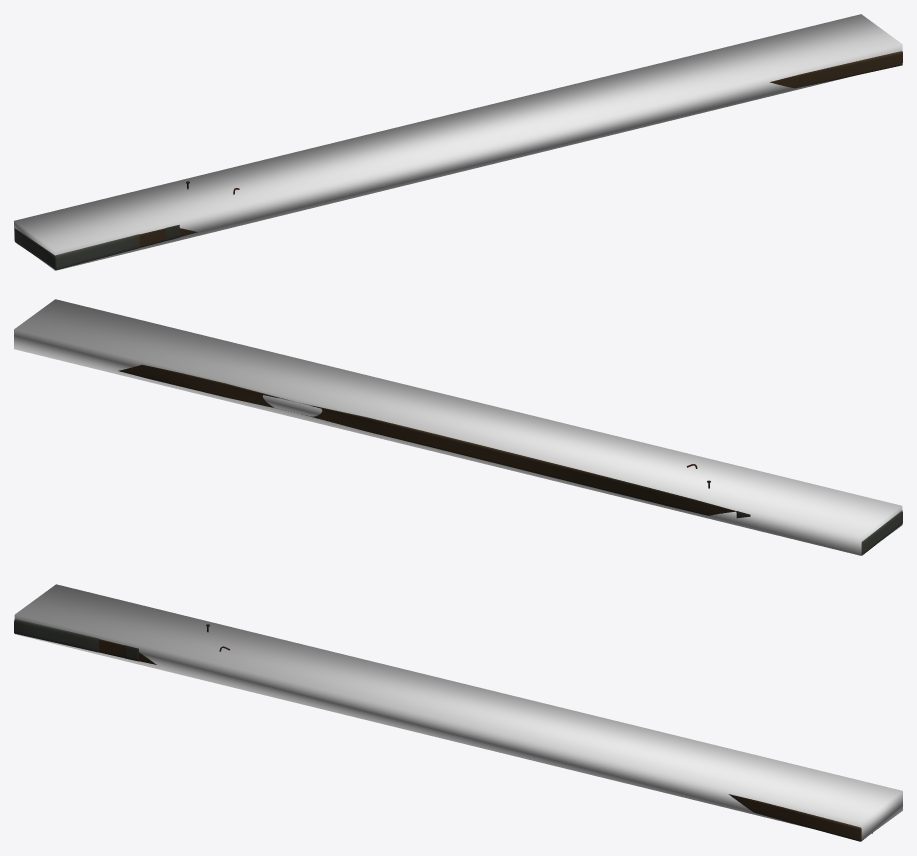
File: tablon.glb
3 renders of one model, top to bottom at view 1: azimuth 30°, elevation 25°; view 2: azimuth 150°, elevation 25°; view 3: azimuth 330°, elevation 25°, orthographic.
Parts seen in each view (by area): view 1: tablon-colcaja, tablon; view 2: tablon-colcaja, tablon; view 3: tablon-colcaja, tablon.
Part boxes in pixels (left/top/right/bottom): tablon-colcaja: left=14, top=14, right=902, bottom=270; tablon: left=14, top=51, right=902, bottom=269; tablon-colcaja: left=14, top=299, right=902, bottom=555; tablon: left=118, top=364, right=902, bottom=555; tablon-colcaja: left=14, top=584, right=902, bottom=840; tablon: left=14, top=619, right=872, bottom=841.
Bounding box in the file's own units: 2.6 × 0.0818 × 0.2288.
